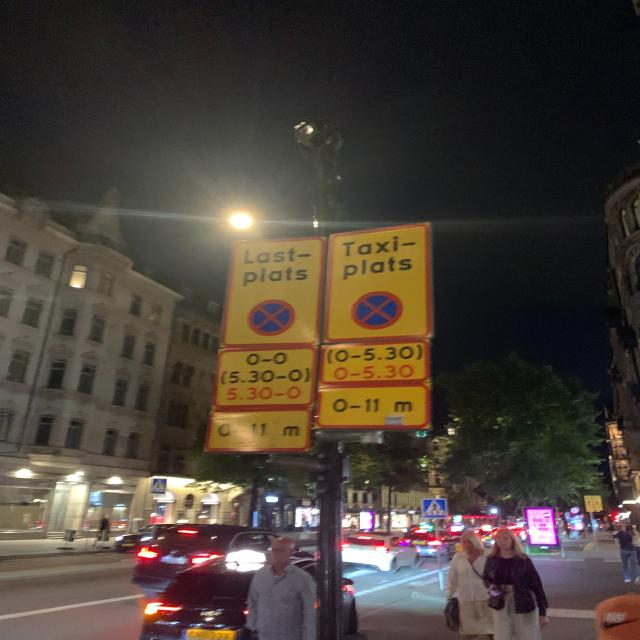lastplats: (324, 224, 428, 344), (221, 233, 327, 348)
